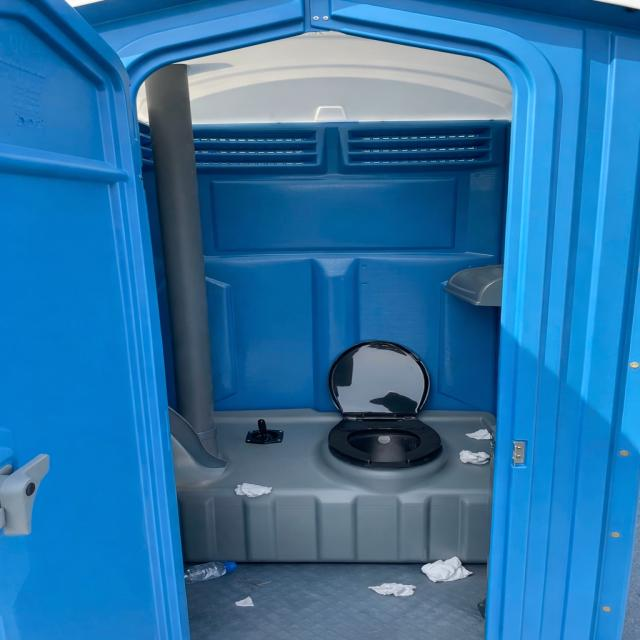garbage: (358, 543, 478, 613), (182, 546, 280, 625), (436, 416, 513, 482), (217, 467, 291, 515)
